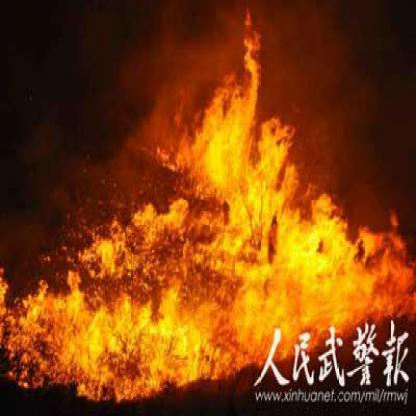fire: (178, 15, 412, 354), (2, 189, 200, 394)
